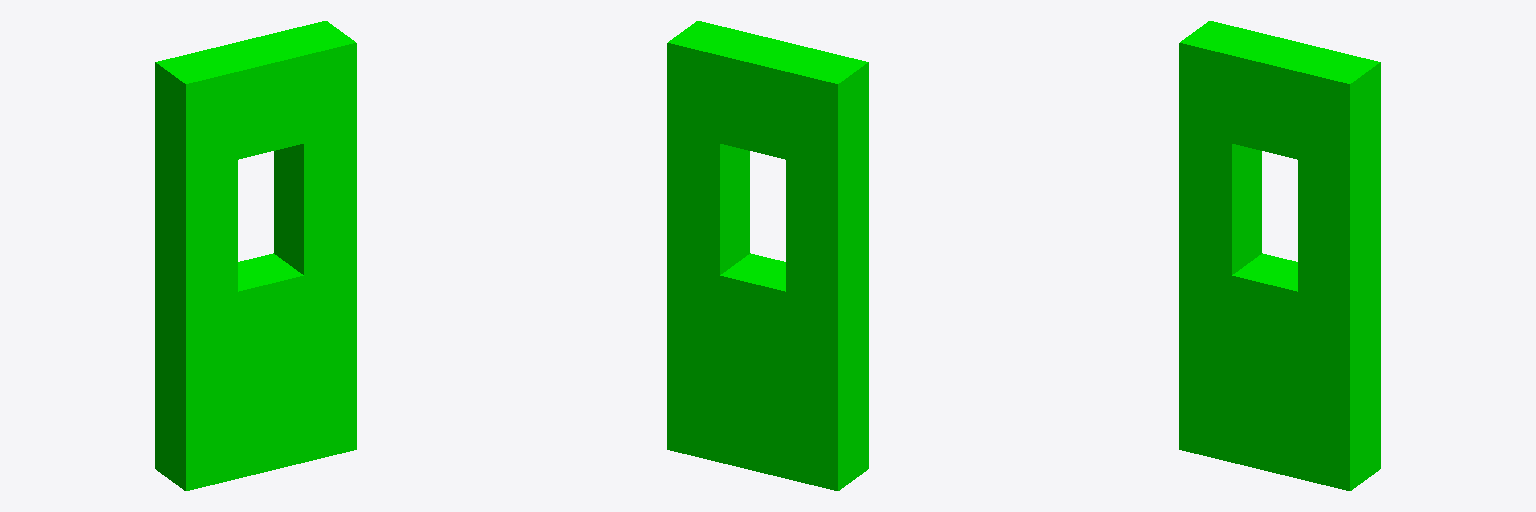
URDF robot description (folding_drone_experiment_obstacle):
<?xml version='1.0' encoding='utf-8'?>
<robot name="folding_drone_experiment_obstacle">
  <link name="base_link" />
  <link name="link1">
    <inertial>
      <origin xyz="0.28575 1.4 0.4398" rpy="0 0 0" />
      <mass value="999999999999999999999999999.0" />
      <inertia ixx="0.01" ixy="0" ixz="0" iyy="0.01" iyz="0" izz="0.01" />
    </inertial>
    <visual>
      <origin xyz="0.28575 1.4 0.4398" rpy="0 0 0" />
      <geometry>
        <box size="0.254 0.254 1.8796" />
      </geometry>
      <material name="link1_color">
        <color rgba="0 1 0 1.0" />
      </material>
    </visual>
    <collision>
      <origin xyz="0.28575 1.4 0.4398" rpy="0 0 0" />
      <geometry>
        <box size="0.254 0.254 1.8796" />
      </geometry>
    </collision>
  </link>
  <joint name="joint_1_link1" type="fixed">
    <parent link="base_link" />
    <child link="link1" />
    <origin xyz="0 0 0" rpy="0 0 0" />
  </joint>
  <link name="link2">
    <inertial>
      <origin xyz="-0.28575 1.4 0.4398" rpy="0 0 0" />
      <mass value="999999999999999999999999999.0" />
      <inertia ixx="0.01" ixy="0" ixz="0" iyy="0.01" iyz="0" izz="0.01" />
    </inertial>
    <visual>
      <origin xyz="-0.28575 1.4 0.4398" rpy="0 0 0" />
      <geometry>
        <box size="0.254 0.254 1.8796" />
      </geometry>
      <material name="link2_color">
        <color rgba="0 1 0 1.0" />
      </material>
    </visual>
    <collision>
      <origin xyz="-0.28575 1.4 0.4398" rpy="0 0 0" />
      <geometry>
        <box size="0.254 0.254 1.8796" />
      </geometry>
    </collision>
  </link>
  <joint name="joint_2_link2" type="fixed">
    <parent link="base_link" />
    <child link="link2" />
    <origin xyz="0 0 0" rpy="0 0 0" />
  </joint>
  <link name="link3">
    <inertial>
      <origin xyz="0.0 1.4 -0.0682" rpy="0 0 0" />
      <mass value="999999999999999999999999999.0" />
      <inertia ixx="0.01" ixy="0" ixz="0" iyy="0.01" iyz="0" izz="0.01" />
    </inertial>
    <visual>
      <origin xyz="0.0 1.4 -0.0682" rpy="0 0 0" />
      <geometry>
        <box size="0.3175 0.254 0.8636" />
      </geometry>
      <material name="link3_color">
        <color rgba="0 1 0 1.0" />
      </material>
    </visual>
    <collision>
      <origin xyz="0.0 1.4 -0.0682" rpy="0 0 0" />
      <geometry>
        <box size="0.3175 0.254 0.8636" />
      </geometry>
    </collision>
  </link>
  <joint name="joint_3_link3" type="fixed">
    <parent link="base_link" />
    <child link="link3" />
    <origin xyz="0 0 0" rpy="0 0 0" />
  </joint>
  <link name="link4">
    <inertial>
      <origin xyz="0.0 1.4 1.1764" rpy="0 0 0" />
      <mass value="999999999999999999999999999.0" />
      <inertia ixx="0.01" ixy="0" ixz="0" iyy="0.01" iyz="0" izz="0.01" />
    </inertial>
    <visual>
      <origin xyz="0.0 1.4 1.1764" rpy="0 0 0" />
      <geometry>
        <box size="0.3175 0.254 0.4064" />
      </geometry>
      <material name="link4_color">
        <color rgba="0 1 0 1.0" />
      </material>
    </visual>
    <collision>
      <origin xyz="0.0 1.4 1.1764" rpy="0 0 0" />
      <geometry>
        <box size="0.3175 0.254 0.4064" />
      </geometry>
    </collision>
  </link>
  <joint name="joint_4_link4" type="fixed">
    <parent link="base_link" />
    <child link="link4" />
    <origin xyz="0 0 0" rpy="0 0 0" />
  </joint>
</robot>

--- Render facts (derived) ---
The picture shows the robot from 3 angles, left to right: view 1: azimuth 30°, elevation 25°; view 2: azimuth 150°, elevation 25°; view 3: azimuth 330°, elevation 25°; orthographic projection.
Model folding_drone_experiment_obstacle with 5 links and 4 joints (4 fixed), rooted at base_link, posed every joint at zero.
Links seen in each view (by area): view 1: link2, link1, link3, link4; view 2: link2, link1, link3, link4; view 3: link1, link2, link3, link4.
Boxes of the visible links, bbox=[...] form: link2: bbox=[155, 49, 237, 490]; link1: bbox=[274, 21, 356, 462]; link3: bbox=[238, 253, 303, 478]; link4: bbox=[208, 33, 303, 159]; link2: bbox=[786, 49, 868, 490]; link1: bbox=[667, 21, 749, 462]; link3: bbox=[720, 253, 785, 478]; link4: bbox=[720, 33, 815, 159]; link1: bbox=[1298, 49, 1380, 490]; link2: bbox=[1179, 21, 1261, 462]; link3: bbox=[1232, 253, 1297, 478]; link4: bbox=[1232, 33, 1327, 159].
Bounding box of the posed robot: 0.8255 × 0.254 × 1.88 m (x, y, z).
Geometry: primitives only (box / cylinder / sphere), no mesh files.
